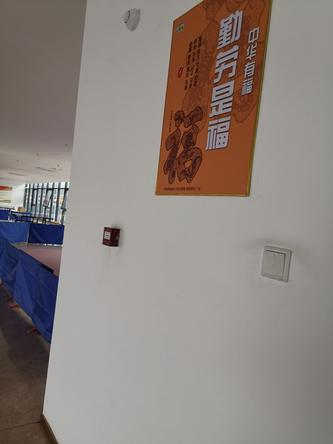switch: (264, 247, 292, 278)
